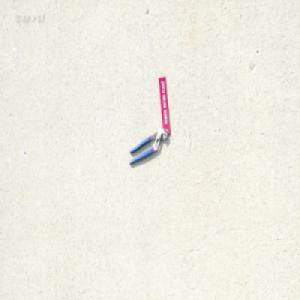Label: (158, 75, 170, 135)
Pliers: (128, 127, 168, 166)
